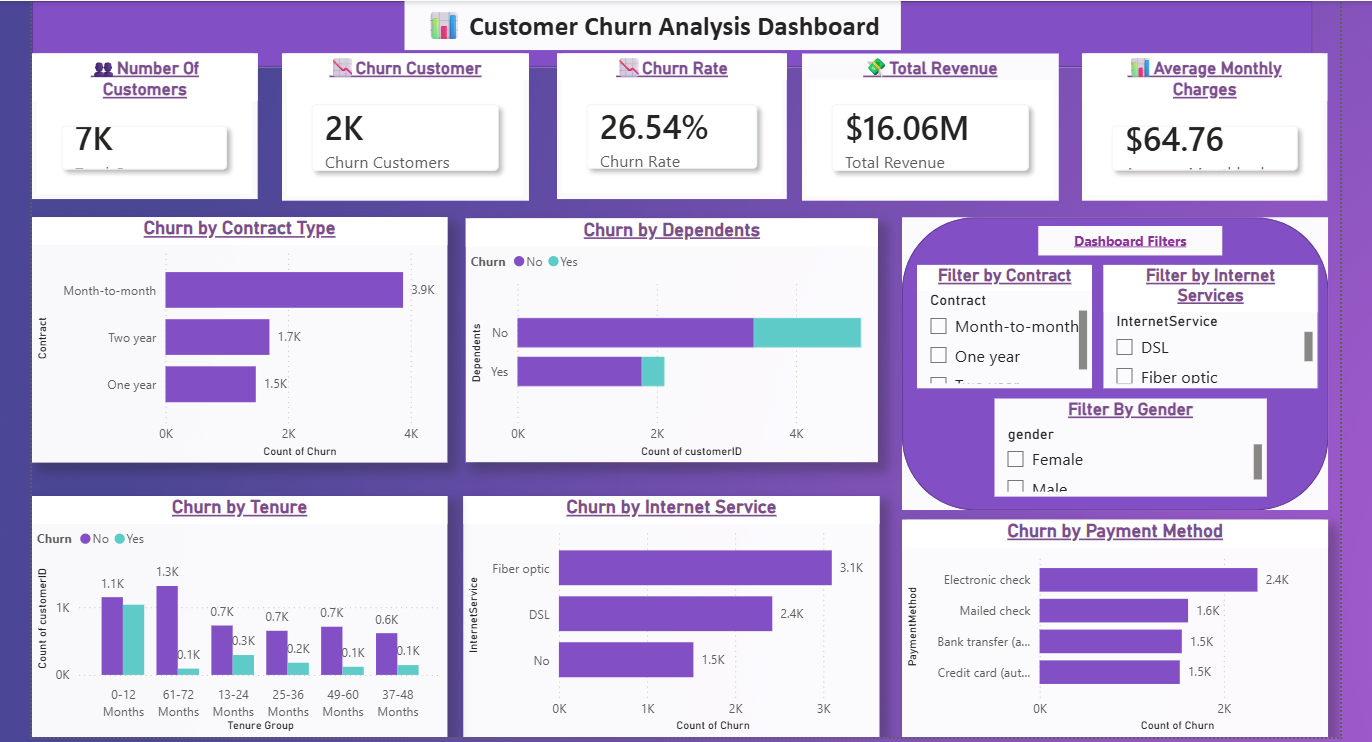

Layout of this report page (visuals, bound fields, positions):
{"tool":"powerbi","page":{"name":"Page 1","canvas":[1280,720],"ordinal":0},"visuals":[{"type":"shape","box":[850.8,211.3,417.2,286.8],"z":0},{"type":"shape","box":[0,0,1252.8,64.5],"z":1000},{"type":"cardVisual","title":"👥Number Of Customers","fields":{"Data":["Telco-Customer-Churn.Total Customers"]},"box":[0,47.7,243.3,145.5],"z":2000},{"type":"cardVisual","title":"📉Churn Customer","fields":{"Data":["Telco-Customer-Churn.Churn Customers"]},"box":[243.3,47.7,270.2,145.5],"z":3000},{"type":"cardVisual","title":"📉Churn Rate","fields":{"Data":["Telco-Customer-Churn.Churn Rate"]},"box":[513.2,48,251.1,144.1],"z":4000},{"type":"cardVisual","title":"💸Total Revenue","fields":{"Data":["Telco-Customer-Churn.Total Revenue"]},"box":[754.7,48,273.1,144.1],"z":5000},{"type":"cardVisual","title":"📊Average Monthly Charges","fields":{"Data":["Telco-Customer-Churn.Average Monthly charges"]},"box":[1027.8,49.4,252.5,142.7],"z":6000},{"type":"barChart","title":"Churn by Contract Type","fields":{"Category":["Telco-Customer-Churn.Contract"],"Y":["CountNonNull(Telco-Customer-Churn.Churn)"]},"box":[0,211.3,406.2,240.1],"z":7000},{"type":"barChart","title":"Churn by Dependents","fields":{"Category":["Telco-Customer-Churn.Dependents"],"Series":["Telco-Customer-Churn.Churn"],"Y":["CountNonNull(Telco-Customer-Churn.customerID)"]},"box":[424,212.7,403.4,238.8],"z":8000},{"type":"clusteredBarChart","title":"Churn by Internet Service","fields":{"Category":["Telco-Customer-Churn.InternetService"],"Y":["CountNonNull(Telco-Customer-Churn.Churn)"]},"box":[421.3,484.4,407.5,236],"z":9000},{"type":"barChart","title":"Churn by Payment Method ","fields":{"Y":["CountNonNull(Telco-Customer-Churn.Churn)"],"Category":["Telco-Customer-Churn.PaymentMethod"]},"box":[850.8,507.7,417.2,212.7],"z":10000},{"type":"clusteredColumnChart","title":"Churn by Tenure","fields":{"Category":["Telco-Customer-Churn.Tenure Group"],"Y":["CountNonNull(Telco-Customer-Churn.customerID)"],"Series":["Telco-Customer-Churn.Churn"]},"box":[0,484.4,406.2,236],"z":11000},{"type":"slicer","title":"Filter by Contract ","fields":{"Values":["Telco-Customer-Churn.Contract"]},"box":[865.9,258,171.5,120.8],"z":12000},{"type":"slicer","title":"Filter By Gender","fields":{"Values":["Telco-Customer-Churn.gender"]},"box":[941.3,388.3,266.2,96.1],"z":13000},{"type":"slicer","title":"Filter by Internet Services","fields":{"Values":["Telco-Customer-Churn.InternetService"]},"box":[1048.4,258,209.9,120.8],"z":14000},{"type":"textbox","box":[365,0,485.8,48],"z":15000},{"type":"textbox","box":[983.9,219.6,179.8,28.8],"z":16000}]}

Visuals, with their boxes in screenshot pixels (x1, y1, x2, y2):
shape: pyautogui.locateOnScreen(895, 215, 1319, 507)
shape: pyautogui.locateOnScreen(29, 0, 1304, 66)
"👥Number Of Customers" cardVisual: pyautogui.locateOnScreen(29, 49, 276, 197)
"📉Churn Customer" cardVisual: pyautogui.locateOnScreen(276, 49, 551, 197)
"📉Churn Rate" cardVisual: pyautogui.locateOnScreen(551, 49, 807, 196)
"💸Total Revenue" cardVisual: pyautogui.locateOnScreen(797, 49, 1075, 196)
"📊Average Monthly Charges" cardVisual: pyautogui.locateOnScreen(1075, 50, 1332, 196)
"Churn by Contract Type" barChart: pyautogui.locateOnScreen(29, 215, 442, 459)
"Churn by Dependents" barChart: pyautogui.locateOnScreen(460, 217, 871, 460)
"Churn by Internet Service" clusteredBarChart: pyautogui.locateOnScreen(457, 493, 872, 733)
"Churn by Payment Method " barChart: pyautogui.locateOnScreen(895, 517, 1319, 733)
"Churn by Tenure" clusteredColumnChart: pyautogui.locateOnScreen(29, 493, 442, 733)
"Filter by Contract " slicer: pyautogui.locateOnScreen(910, 263, 1085, 386)
"Filter By Gender" slicer: pyautogui.locateOnScreen(987, 395, 1258, 493)
"Filter by Internet Services" slicer: pyautogui.locateOnScreen(1096, 263, 1309, 386)
textbox: pyautogui.locateOnScreen(400, 0, 895, 49)
textbox: pyautogui.locateOnScreen(1030, 224, 1213, 253)
